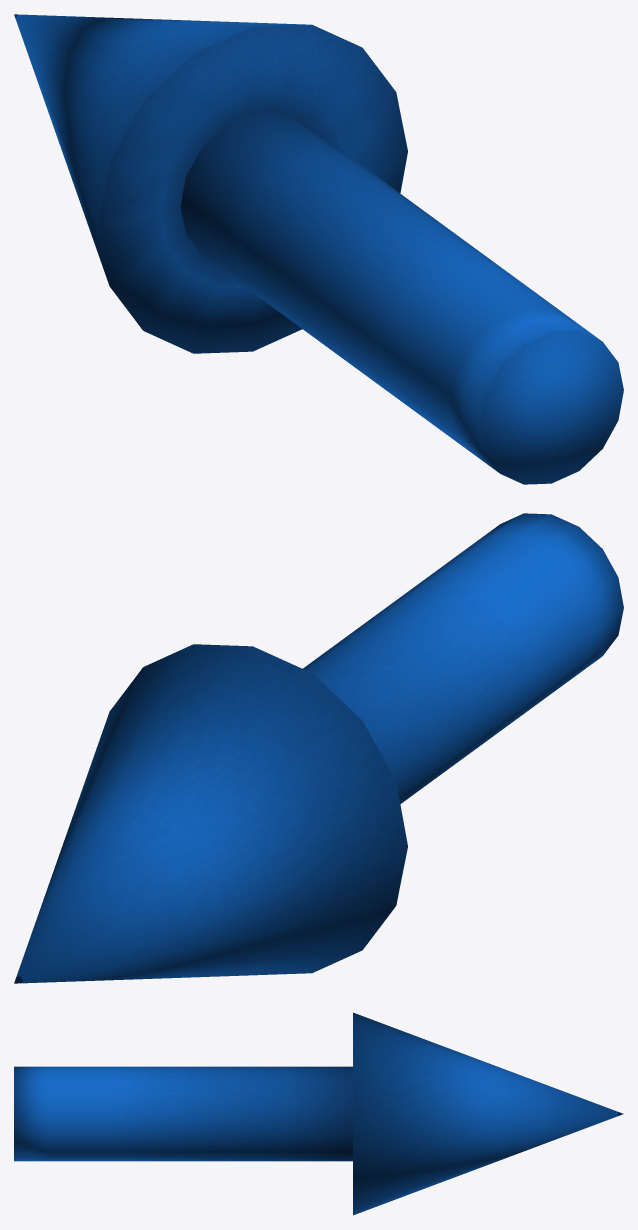
File: arrow_blue.glb
3 renders of one model, top to bottom at view 1: azimuth 30°, elevation 25°; view 2: azimuth 150°, elevation 25°; view 3: azimuth 270°, elevation 25°, orthographic. The views are drawn at different scales.
Parts seen in each view (by area): view 1: arrow; view 2: arrow; view 3: arrow.
Part boxes in pixels (x1,y1,x2,y2): arrow: (14, 14, 623, 484); arrow: (14, 513, 623, 983); arrow: (14, 1012, 623, 1215).
Bounding box in the file's own units: 6 × 6 × 18.
Materials: 1 (1 with a texture image).
